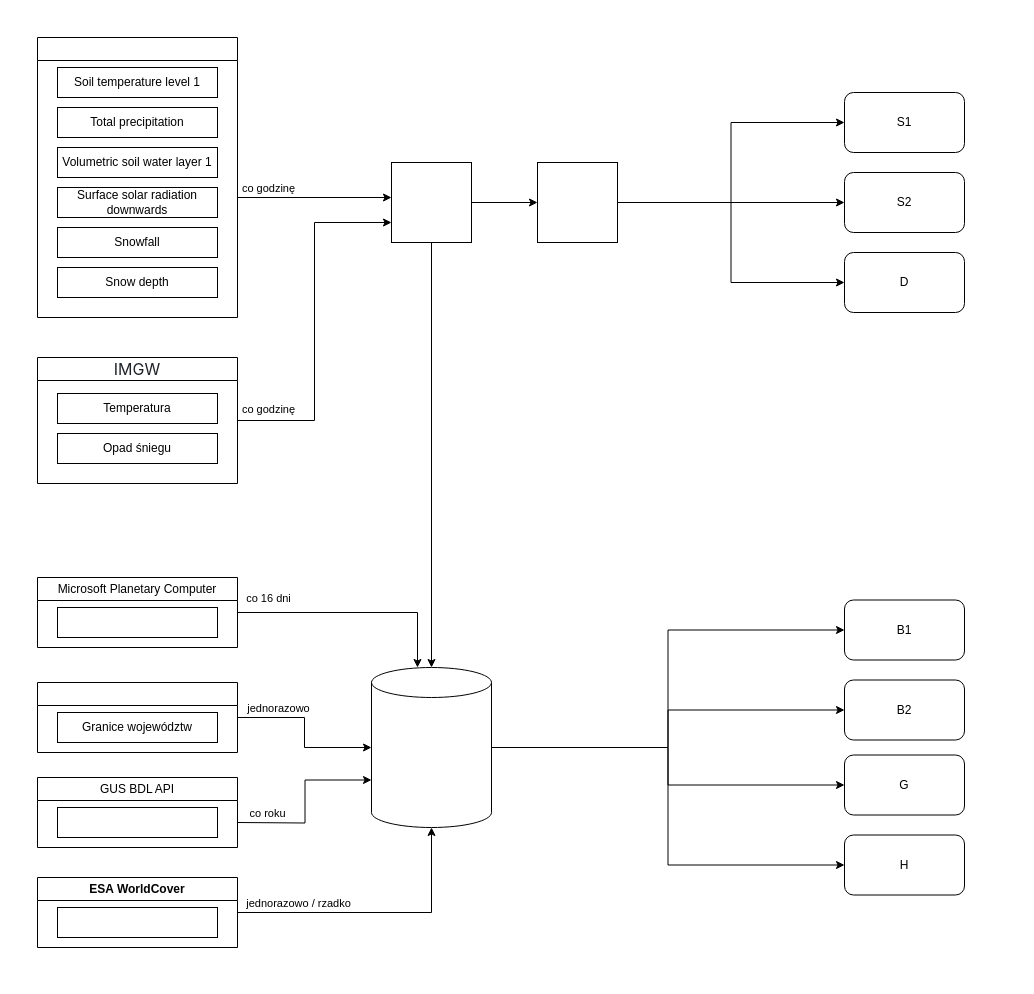
The diagram is 1034 pixels wide and 994 high, and some of its shapes have lost their labels. Each missing label, with the box of its shape:
ERA5-Land: (36, 36, 238, 318)
GUGiK: (36, 682, 238, 752)
HDFS: (370, 666, 492, 828)
KAFKA: (390, 162, 472, 242)
KAFKA STREAMING: (536, 162, 618, 242)
maska pól rolnych: (56, 906, 218, 938)
NDVI: (56, 606, 218, 638)
plony na 1 ha: (56, 806, 218, 838)
